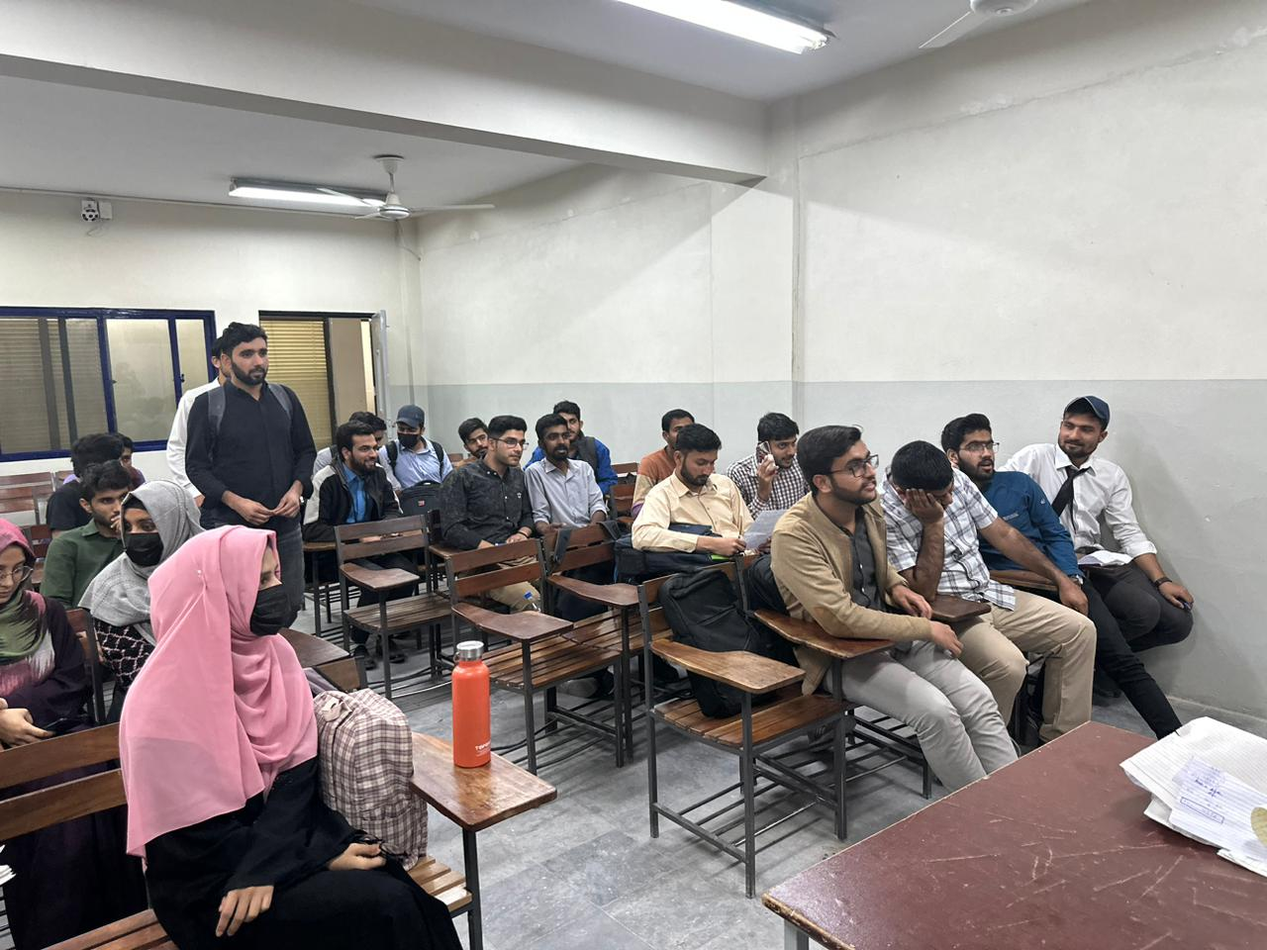non-cheating: (142, 520, 304, 652), (787, 414, 883, 514), (936, 408, 1005, 486), (213, 314, 275, 392), (74, 457, 130, 537), (672, 421, 724, 492), (0, 518, 38, 612), (485, 410, 530, 476), (756, 410, 799, 475), (534, 412, 571, 466)
phone: (750, 438, 780, 488)
